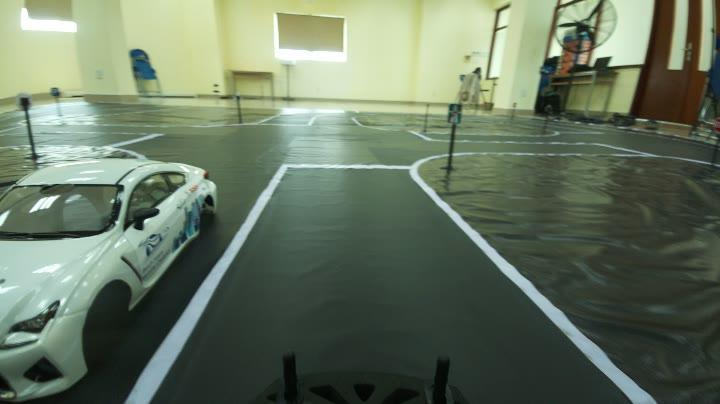car: (3, 91, 222, 396)
highway_exit: (437, 98, 470, 132)
